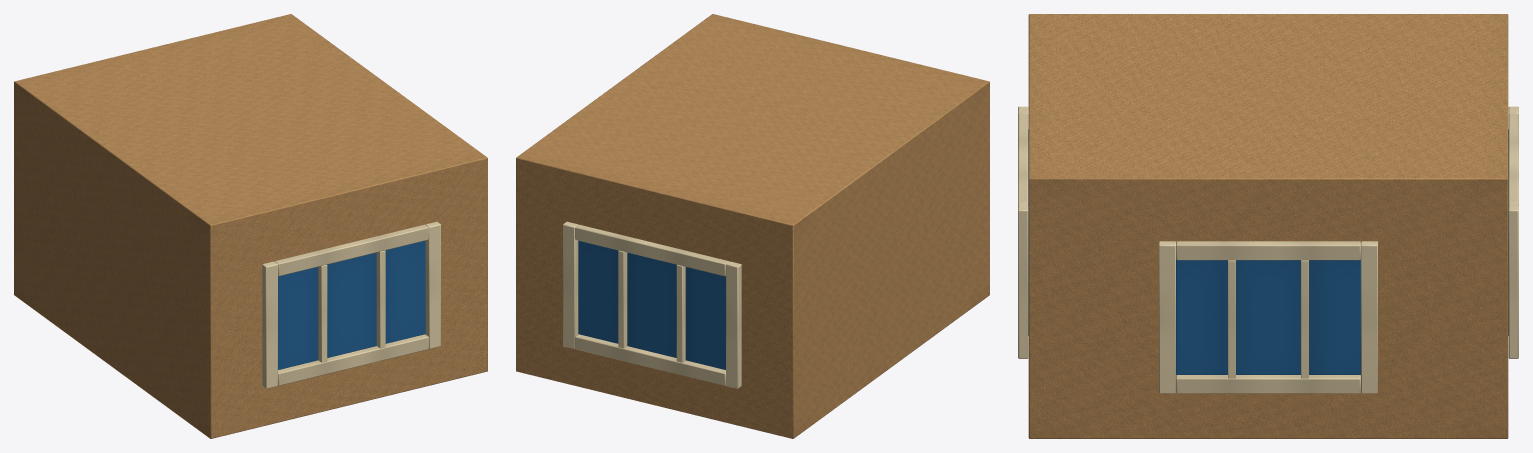
The model's file is 12-top-box-right-wing.fbx.
3 renders of one model, left to right at view 1: azimuth 30°, elevation 25°; view 2: azimuth 150°, elevation 25°; view 3: azimuth 270°, elevation 25°, orthographic. The views are drawn at different scales.
Parts seen in each view (by area): view 1: top-box-right-wing; view 2: top-box-right-wing; view 3: top-box-right-wing.
Boxes of the visible parts, x1,y1,x2,y2 form: top-box-right-wing: (14,14,487,438); top-box-right-wing: (516,14,989,438); top-box-right-wing: (1018,14,1518,438).
Bounding box in the file's own units: 5855 × 4200 × 7310.
1 material, 1 textured.
